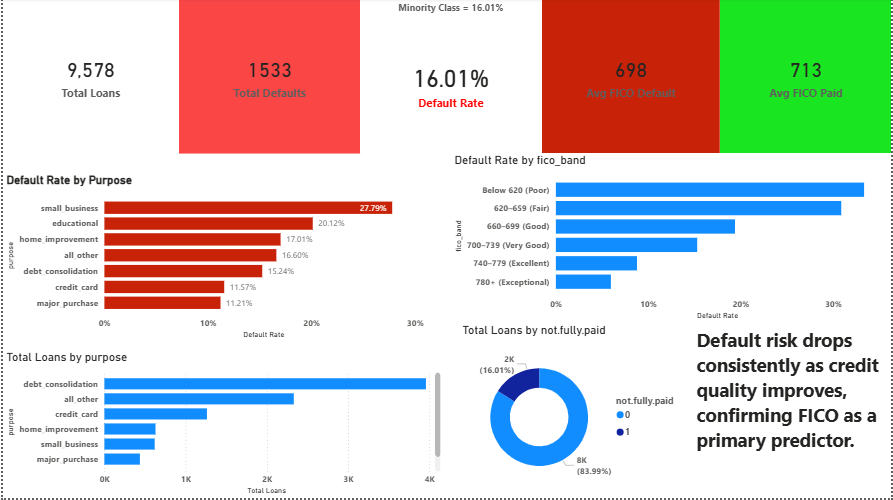

The dashboard page shown, as its layout file describes it:
{"tool":"powerbi","page":{"name":"Executive Overview","canvas":[1280,720],"ordinal":1},"visuals":[{"type":"card","fields":{"Values":["loan_default_export.Total Loans"]},"box":[0,0,252.9,223.9],"z":0},{"type":"card","fields":{"Values":["loan_default_export.Avg FICO Default"]},"box":[775.9,0,256.3,223.9],"z":1000},{"type":"card","fields":{"Values":["loan_default_export.Total Defaults"]},"box":[252.9,0,261.5,223.9],"z":2000},{"type":"card","fields":{"Values":["loan_default_export.Default Rate"]},"box":[514.4,0,261.5,223.9],"z":3000},{"type":"card","fields":{"Values":["loan_default_export.Avg FICO Paid"]},"box":[1032.2,0,247.8,223.9],"z":4000},{"type":"clusteredBarChart","title":"Default Rate by Purpose","fields":{"Category":["loan_default_export.purpose"],"Y":["loan_default_export.Default Rate"]},"box":[0,252,623.5,243.4],"z":5000},{"type":"clusteredBarChart","fields":{"Category":["loan_default_export.fico_band"],"Y":["loan_default_export.Default Rate"]},"box":[645.1,223.2,635,244.8],"z":6000},{"type":"donutChart","fields":{"Category":["loan_default_export.not.fully.paid"],"Y":["loan_default_export.Total Loans"]},"box":[656.6,468,337,252],"z":7000},{"type":"barChart","fields":{"Category":["loan_default_export.purpose"],"Y":["loan_default_export.Total Loans"]},"box":[0,506.9,635,213.1],"z":8000},{"type":"textbox","box":[994,468,286,252],"z":9000}]}

Visuals, with their boxes in screenshot pixels (x1, y1, x2, y2), scaled from the page's 1280x720 canvas onto the 893x500 screenshot:
card - loan_default_export.Total Loans: (x1=0, y1=0, x2=176, y2=155)
card - loan_default_export.Avg FICO Default: (x1=541, y1=0, x2=720, y2=155)
card - loan_default_export.Total Defaults: (x1=176, y1=0, x2=359, y2=155)
card - loan_default_export.Default Rate: (x1=359, y1=0, x2=541, y2=155)
card - loan_default_export.Avg FICO Paid: (x1=720, y1=0, x2=892, y2=155)
"Default Rate by Purpose" clusteredBarChart: (x1=0, y1=175, x2=435, y2=344)
clusteredBarChart - loan_default_export.fico_band x loan_default_export.Default Rate: (x1=450, y1=155, x2=892, y2=325)
donutChart - loan_default_export.not.fully.paid x loan_default_export.Total Loans: (x1=458, y1=325, x2=693, y2=499)
barChart - loan_default_export.purpose x loan_default_export.Total Loans: (x1=0, y1=352, x2=443, y2=499)
textbox: (x1=693, y1=325, x2=892, y2=499)
